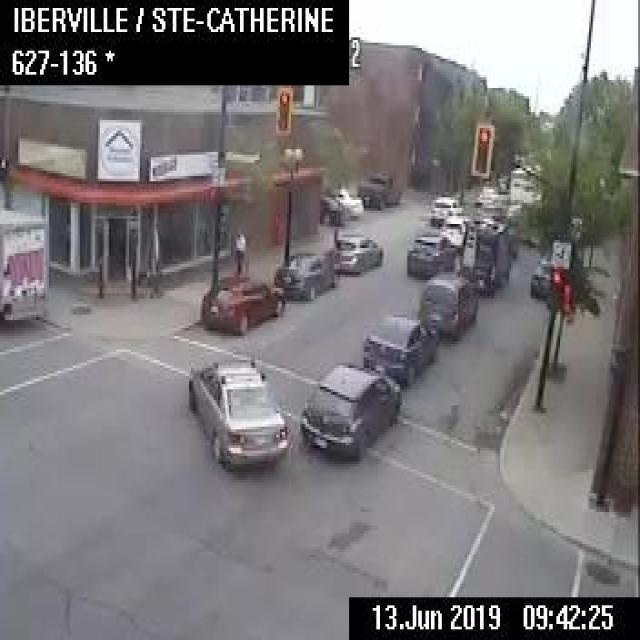pedestrian: (231, 225, 245, 272)
vehicle: (187, 355, 290, 464), (298, 363, 401, 464), (358, 312, 438, 386), (198, 272, 284, 336), (0, 208, 47, 320), (417, 270, 478, 344), (455, 215, 509, 296), (273, 249, 335, 299), (331, 232, 384, 276), (404, 232, 455, 274), (354, 178, 399, 212), (506, 164, 542, 206), (527, 253, 549, 299), (427, 194, 464, 221), (331, 186, 360, 218), (319, 193, 343, 227), (440, 212, 463, 243)
